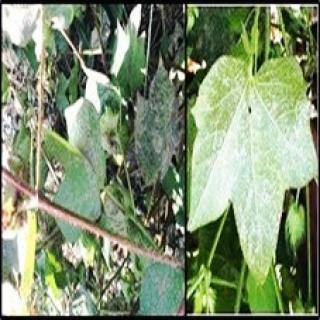grey mildew: (205, 58, 308, 286), (136, 66, 184, 202), (60, 92, 120, 174)
